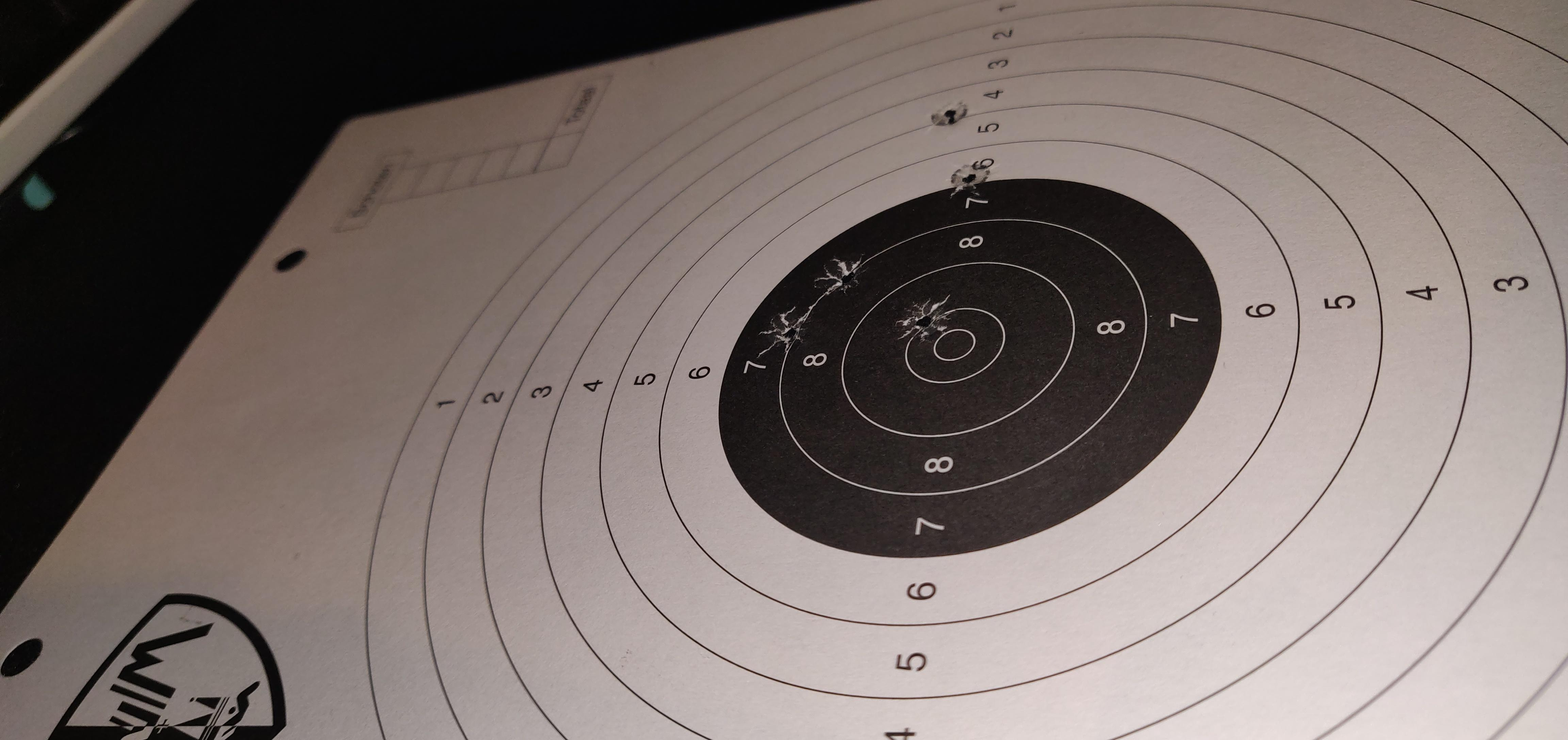hole: (807, 356, 927, 385), (838, 421, 945, 448), (938, 382, 1035, 410), (1145, 447, 1230, 468), (1288, 438, 1360, 457)
